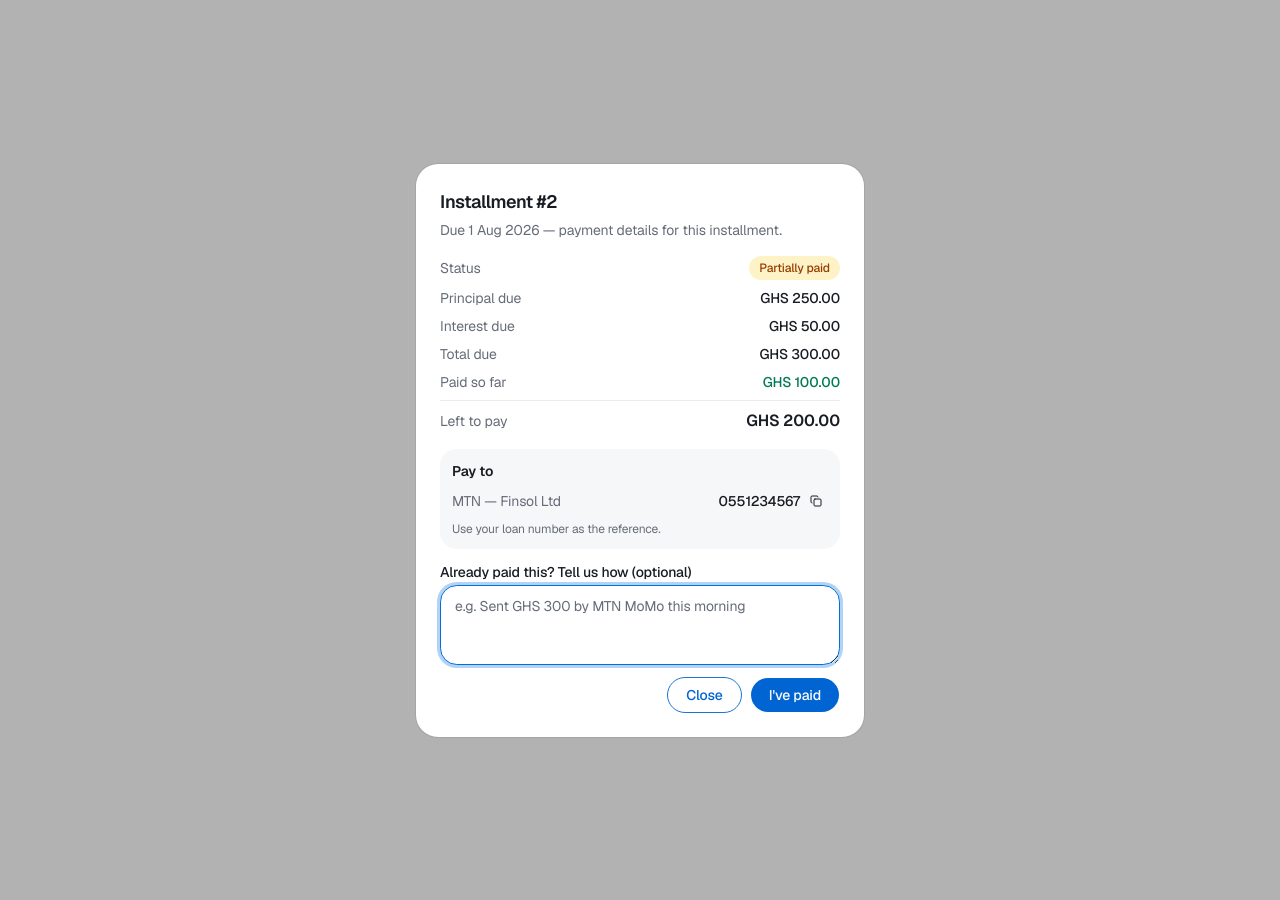
InstallmentDetailDialog › surfaces the server's conflict message for a duplicate claim
Click the button "I've paid". click: (795, 694)
box: top-left (750, 676), bottom-right (840, 712)
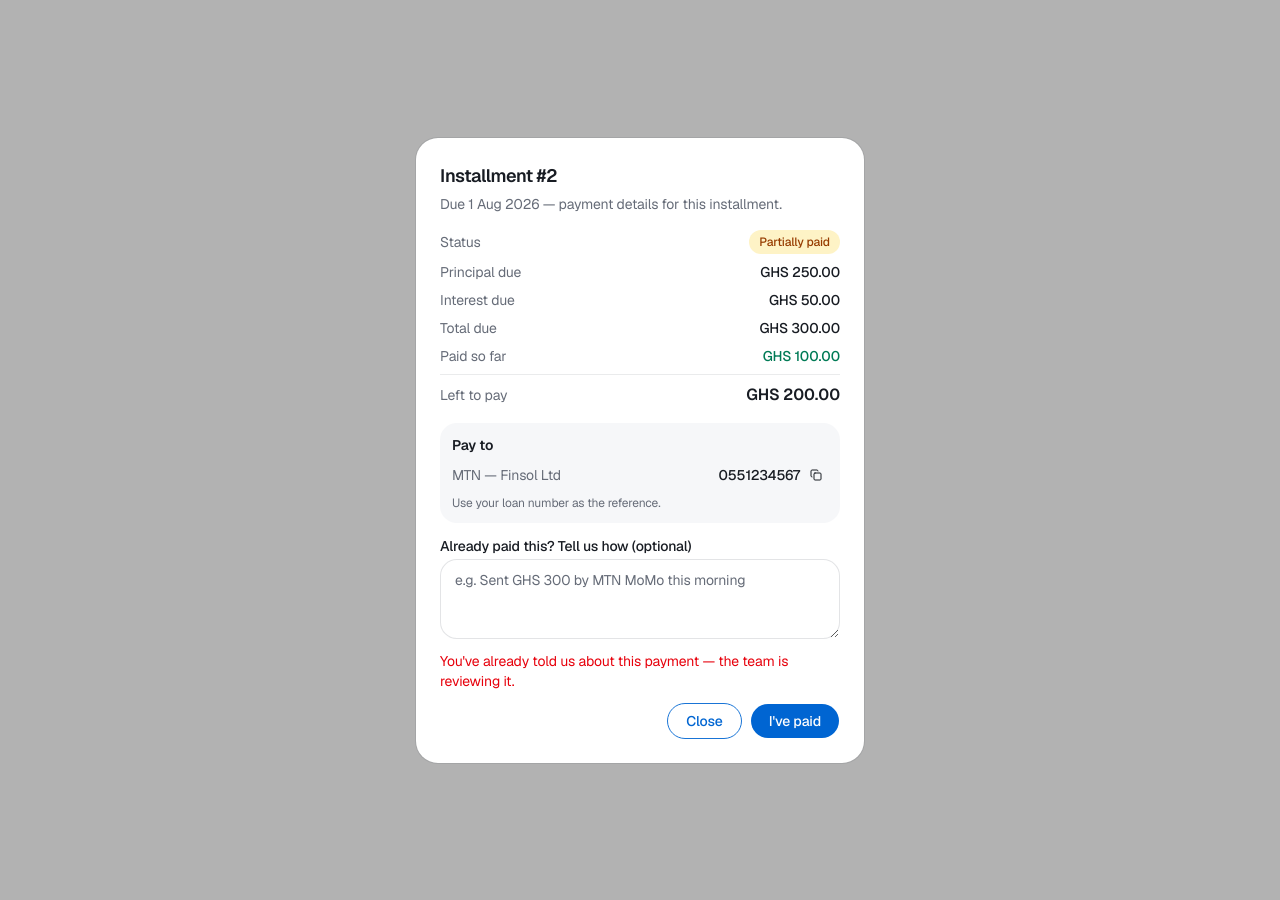
Expected: the text "already told us about this payment" is shown, top-left (440, 652), bottom-right (788, 690)
